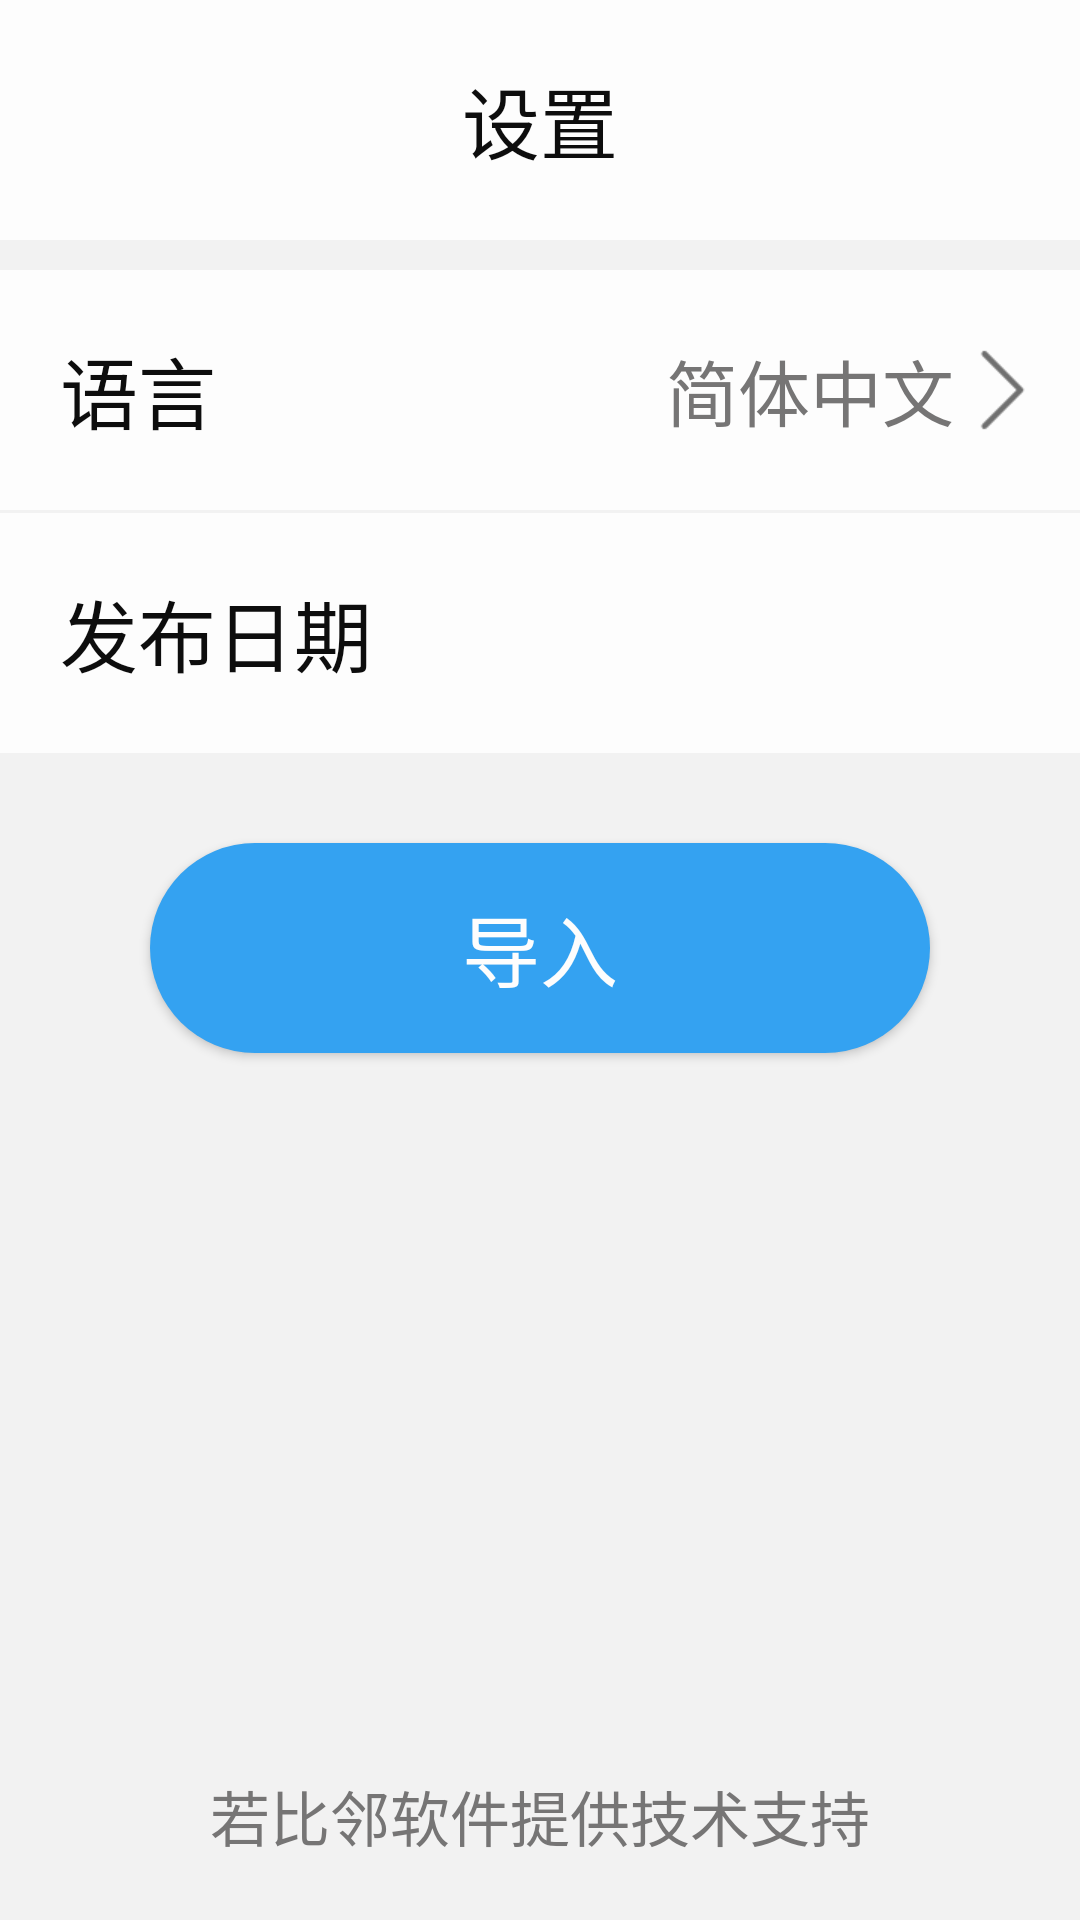

Icon bounding boxes for this 1080 × 1920 phone screenshot, format (x1, y1, x2, y2):
right arrows: (981, 351, 1024, 429)
